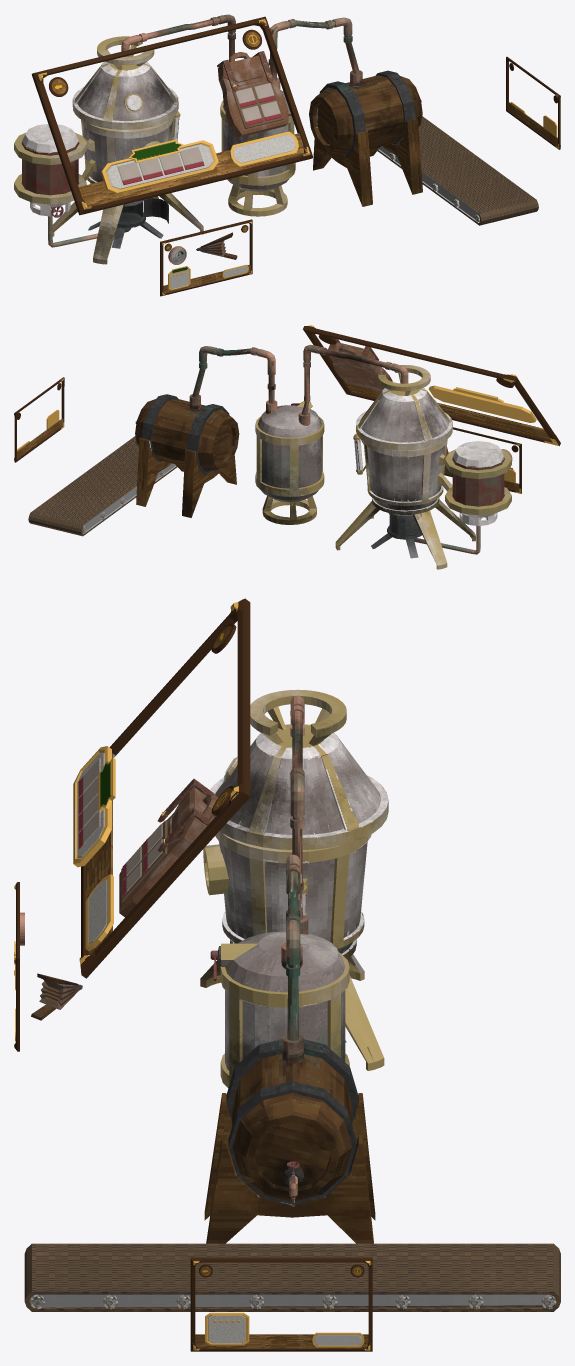
Rendered from Bimbermachine.glb.
3 renders of one model, top to bottom at view 1: azimuth 30°, elevation 25°; view 2: azimuth 150°, elevation 25°; view 3: azimuth 270°, elevation 25°, orthographic. The views are drawn at different scales.
Parts seen in each view (by area): view 1: Valve_Barrel, Cauldron, Lid, ramka, Cube, Reinforcement, plecak, in_pot, przycisk_next, Fire_Place, ramka.001, ramka.002 (+9 smaller); view 2: Cauldron, Valve_Barrel, Reinforcement, Lid, Cube, ramka, plecak, in_pot, Fire_Place, ramka.002, ramka.001; view 3: Cube, Valve_Barrel, Lid, Cauldron, Reinforcement, ramka, ramka.002, plecak, in_pot, przycisk_next, quality_metter.001, bellow.
Boxes of the visible parts, bbox=[...] form: Valve_Barrel: bbox=[268, 17, 422, 206]; Cauldron: bbox=[14, 111, 203, 264]; Lid: bbox=[72, 14, 235, 129]; ramka: bbox=[31, 16, 313, 215]; Cube: bbox=[377, 116, 538, 225]; Reinforcement: bbox=[220, 90, 295, 216]; plecak: bbox=[218, 52, 288, 137]; in_pot: bbox=[100, 140, 218, 193]; przycisk_next: bbox=[229, 131, 298, 167]; Fire_Place: bbox=[48, 200, 163, 248]; ramka.001: bbox=[160, 219, 252, 296]; ramka.002: bbox=[506, 56, 560, 149]; Cauldron: bbox=[335, 433, 511, 569]; Valve_Barrel: bbox=[135, 346, 277, 517]; Reinforcement: bbox=[255, 401, 324, 524]; Lid: bbox=[298, 344, 452, 450]; Cube: bbox=[28, 436, 177, 536]; ramka: bbox=[303, 325, 560, 446]; plecak: bbox=[328, 342, 392, 391]; in_pot: bbox=[428, 385, 536, 422]; Fire_Place: bbox=[371, 513, 480, 558]; ramka.002: bbox=[14, 377, 64, 462]; ramka.001: bbox=[444, 427, 521, 493]; Cube: bbox=[24, 1243, 560, 1311]; Valve_Barrel: bbox=[204, 854, 375, 1243]; Lid: bbox=[210, 689, 388, 934]; Cauldron: bbox=[200, 757, 384, 1070]; Reinforcement: bbox=[220, 931, 349, 1088]; ramka: bbox=[79, 598, 250, 978]; ramka.002: bbox=[190, 1257, 372, 1351]; plecak: bbox=[119, 787, 217, 917]; in_pot: bbox=[73, 746, 111, 867]; przycisk_next: bbox=[85, 874, 113, 951]; quality_metter.001: bbox=[205, 1312, 249, 1345]; bellow: bbox=[31, 973, 82, 1020].
Bounding box in the file's own units: 8.71 × 3.28 × 4.67.
Materials: 29 (29 with a texture image).
